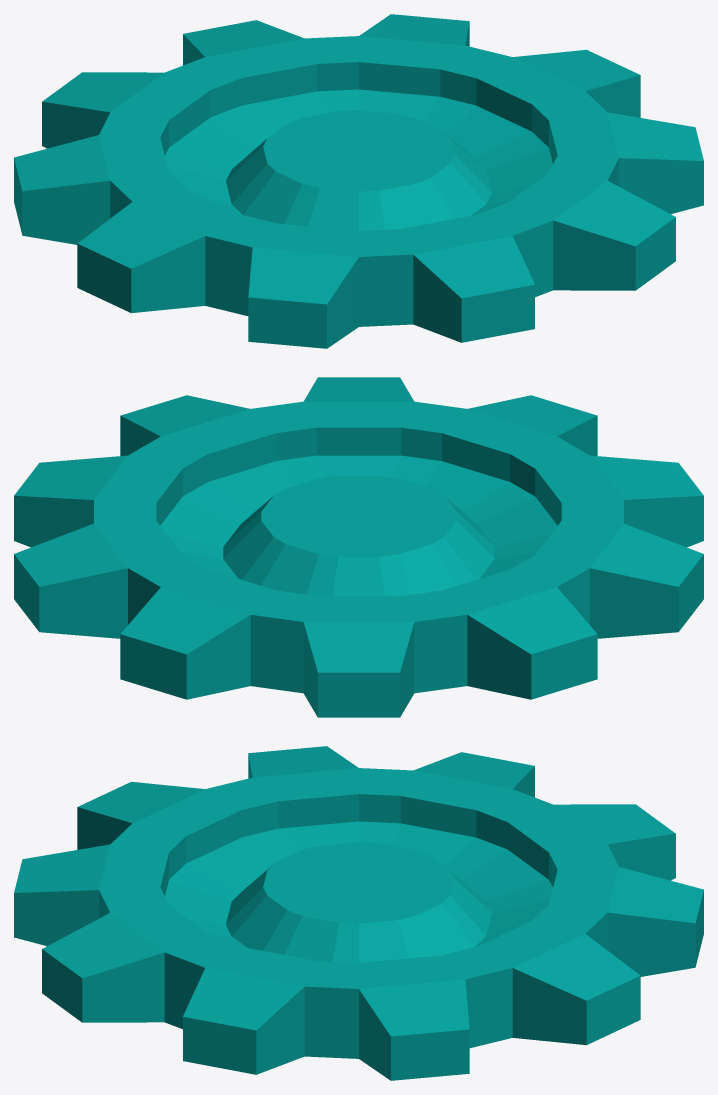
File: _ANM_UnderGear.fbx
The picture shows the model from 3 angles, top to bottom: view 1: azimuth 30°, elevation 25°; view 2: azimuth 150°, elevation 25°; view 3: azimuth 270°, elevation 25°; orthographic projection.
Parts seen in each view (by area): view 1: ANM_UnderGear; view 2: ANM_UnderGear; view 3: ANM_UnderGear.
Part boxes in pixels (box(x1,y1,x2,y2)): ANM_UnderGear: box(14, 14, 703, 348); ANM_UnderGear: box(14, 377, 703, 717); ANM_UnderGear: box(14, 746, 703, 1080).
Bounding box in the file's own units: 34.09 × 3.83 × 34.23.
